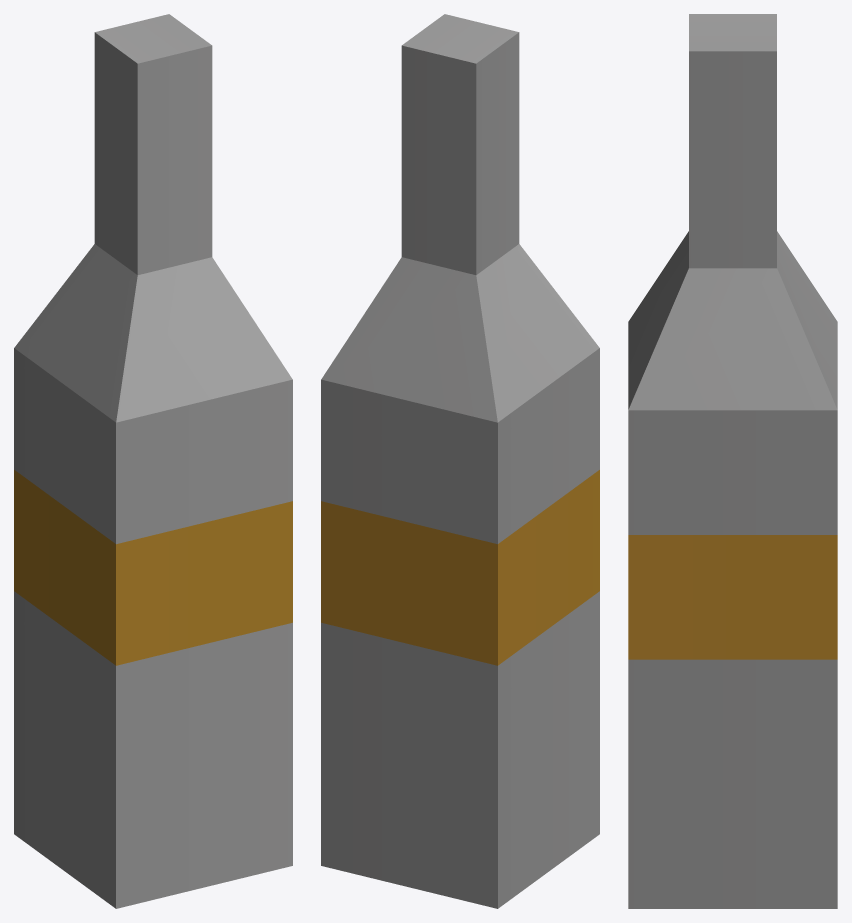
Rendered from B01_bouteille_1_b.fbx.
3 views of the same model, side by side, from view 1: azimuth 30°, elevation 25°; view 2: azimuth 150°, elevation 25°; view 3: azimuth 270°, elevation 25° (orthographic). The views are drawn at different scales.
Visible parts, largest first — view 1: B01_bouteille_1_b; view 2: B01_bouteille_1_b; view 3: B01_bouteille_1_b.
Part boxes in pixels (bbox=[...]): B01_bouteille_1_b: bbox=[14, 14, 292, 908]; B01_bouteille_1_b: bbox=[321, 14, 599, 908]; B01_bouteille_1_b: bbox=[628, 14, 837, 908].
Size of the model in its own units: 7.05 by 30.94 by 7.05.
